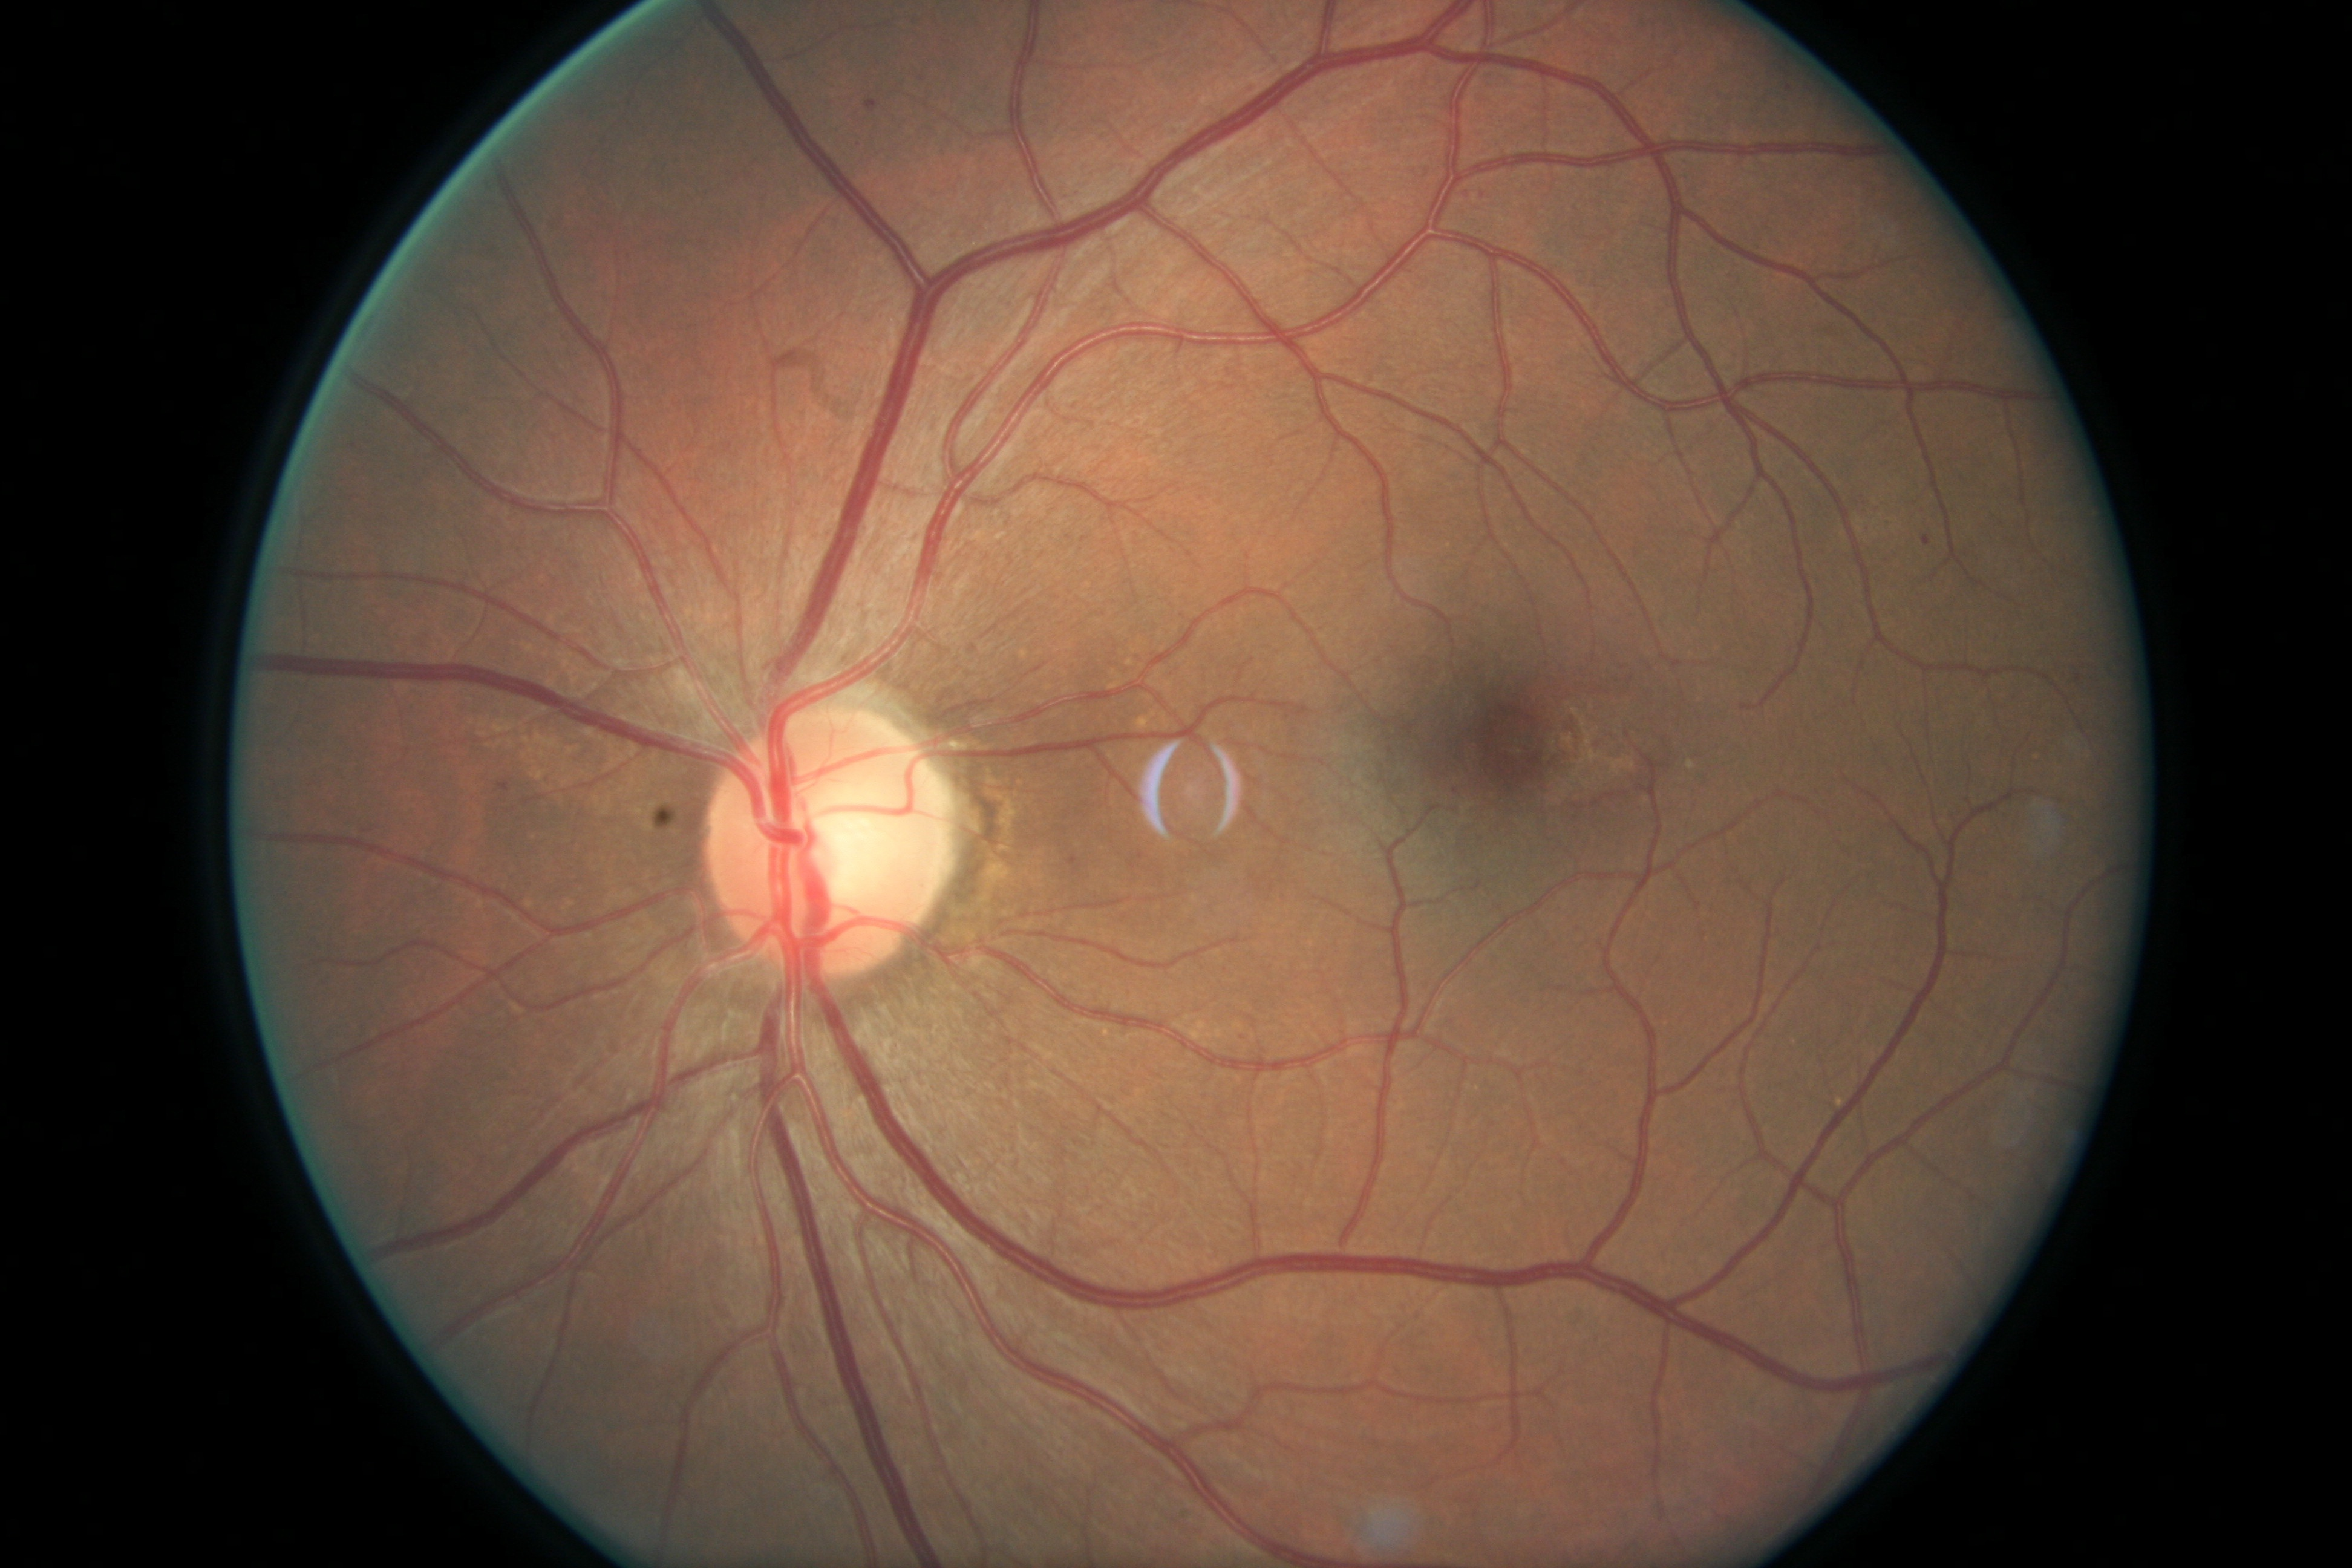Fovea: (1426, 663, 1598, 836)
OD: (696, 696, 973, 990)
